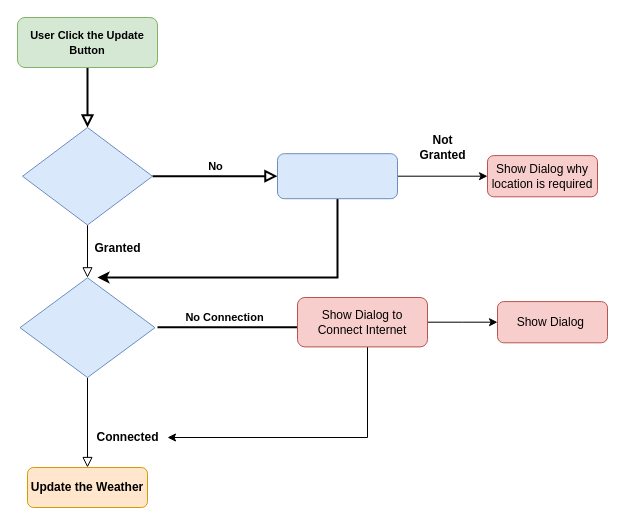
Some shapes in this 625 by 525 pixel diagram are drawn without their labels. Each missing label, with the centre of its shape:
Ask for permission: (337,176)
Check Internet Connection: (87,327)
Check Location Permission: (87,175)
